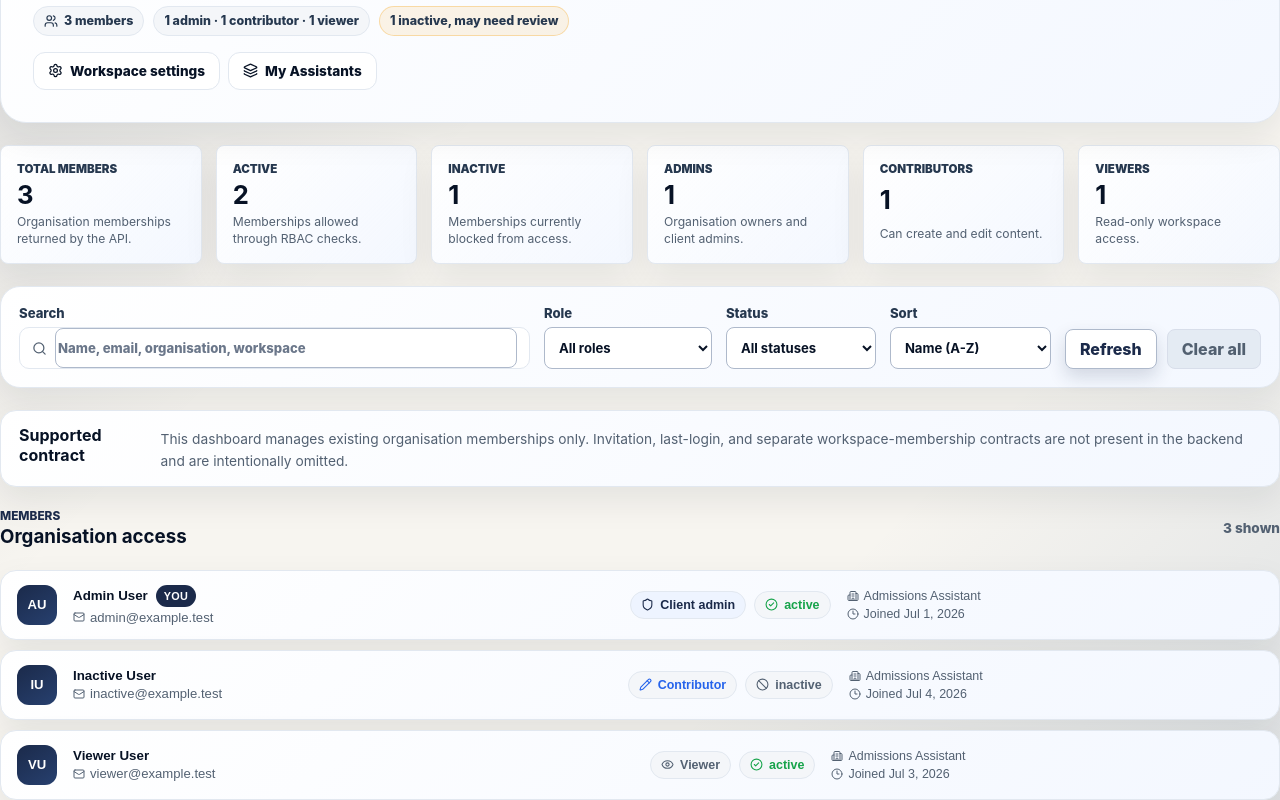
Test: UsersManagementClient › opens the member detail drawer for a selected member
(page scrolled)
Click the button "Viewer User" at (37, 765), box [1, 731, 1279, 799]
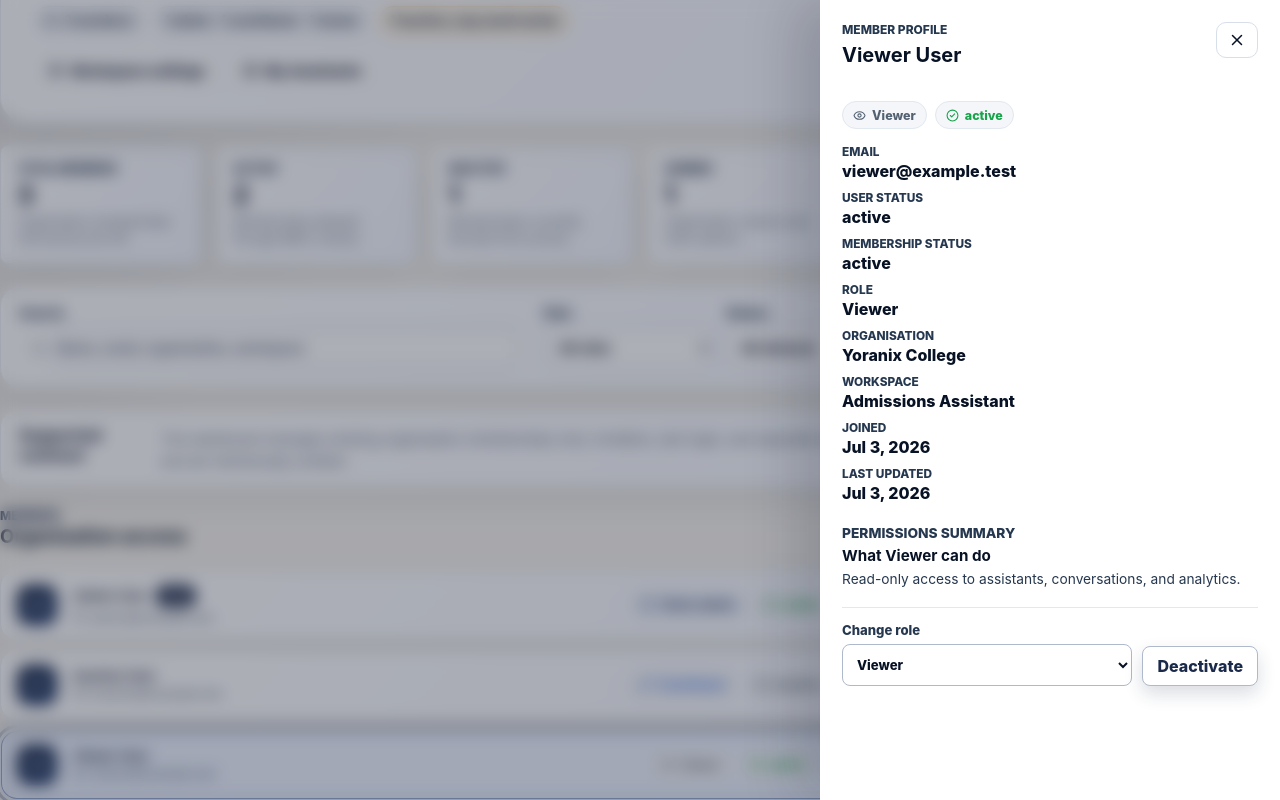
Expected: the text "Admissions Assistant" is shown, [842, 391, 1015, 411]
